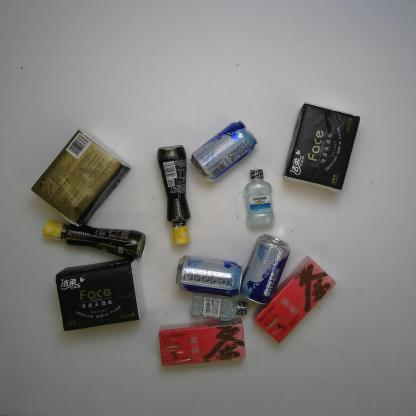Alcohol: (190, 118, 260, 186), (238, 231, 292, 306), (172, 252, 242, 298)
Instant Drink: (251, 253, 337, 348), (155, 317, 248, 367)
Personal Hygiene: (242, 166, 276, 230), (188, 288, 250, 322)
Seasoner: (38, 216, 151, 264), (156, 141, 192, 248)
Tissue: (30, 127, 132, 228), (281, 100, 362, 195), (53, 254, 144, 336)
